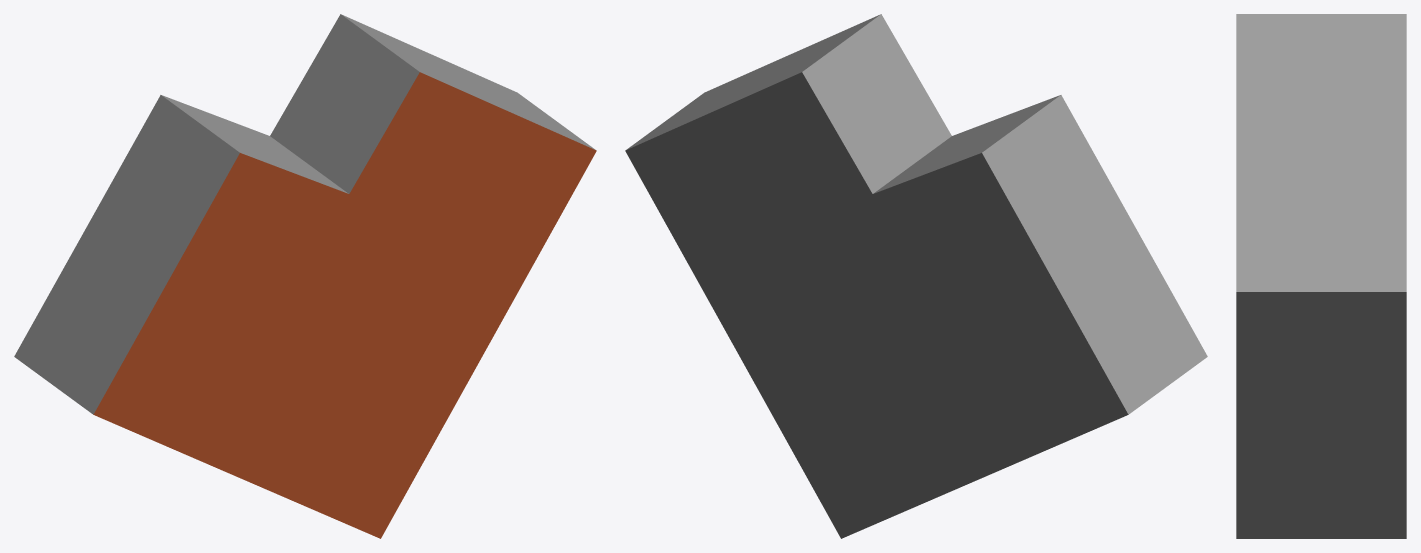
The model's file is construction_4752_assumed_A_Casa_h6m.obj.
3 views of the same model, side by side, from view 1: azimuth 30°, elevation 25°; view 2: azimuth 150°, elevation 25°; view 3: azimuth 270°, elevation 25° (orthographic). The views are drawn at different scales.
Visible parts, largest first — view 1: construction_4752_assumed_A_Casa; view 2: construction_4752_assumed_A_Casa; view 3: construction_4752_assumed_A_Casa.
Part boxes in pixels (x1=…): construction_4752_assumed_A_Casa: x1=14, y1=14, x2=596, y2=538; construction_4752_assumed_A_Casa: x1=625, y1=14, x2=1207, y2=538; construction_4752_assumed_A_Casa: x1=1236, y1=14, x2=1406, y2=538.
Bounding box in the file's own units: 21.98 × 19.08 × 6.
